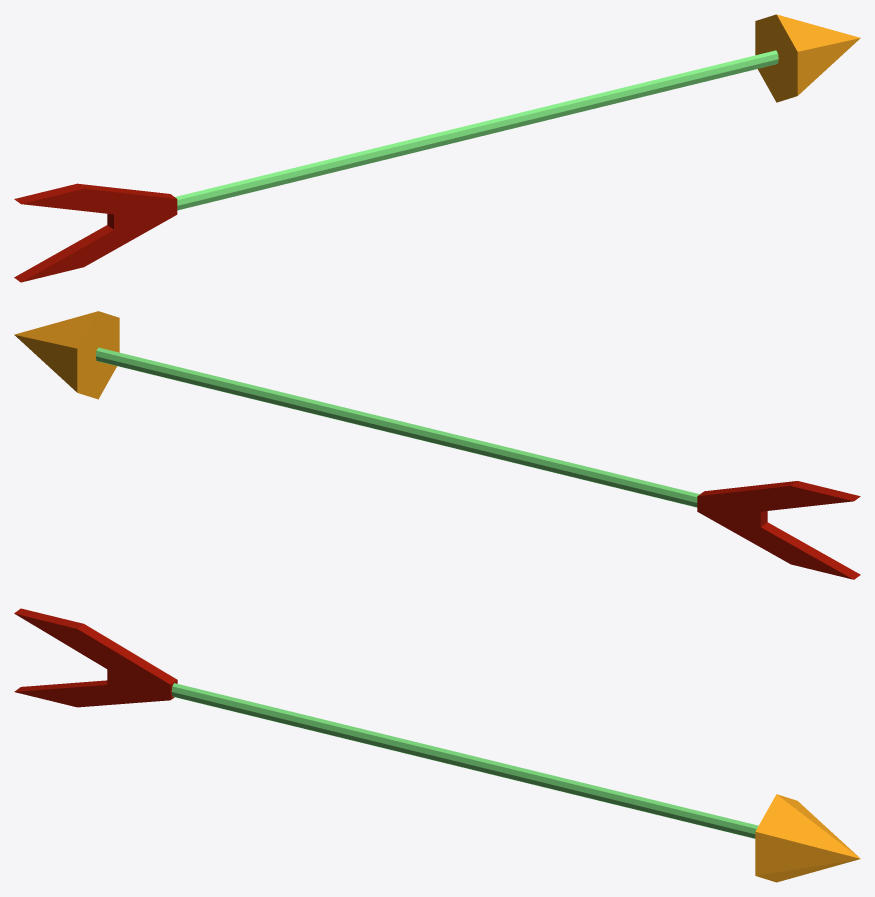
File: Arrow.fbx
3 renders of one model, top to bottom at view 1: azimuth 30°, elevation 25°; view 2: azimuth 150°, elevation 25°; view 3: azimuth 330°, elevation 25°, orthographic.
Parts seen in each view (by area): view 1: pCone35; view 2: pCone35; view 3: pCone35.
Part boxes in pixels (x1=…): pCone35: x1=14, y1=14, x2=860, y2=282; pCone35: x1=14, y1=311, x2=860, y2=579; pCone35: x1=14, y1=608, x2=860, y2=882.
Size of the model in its own units: 59.8 by 5.99 by 5.19.
1 material, 1 textured.
